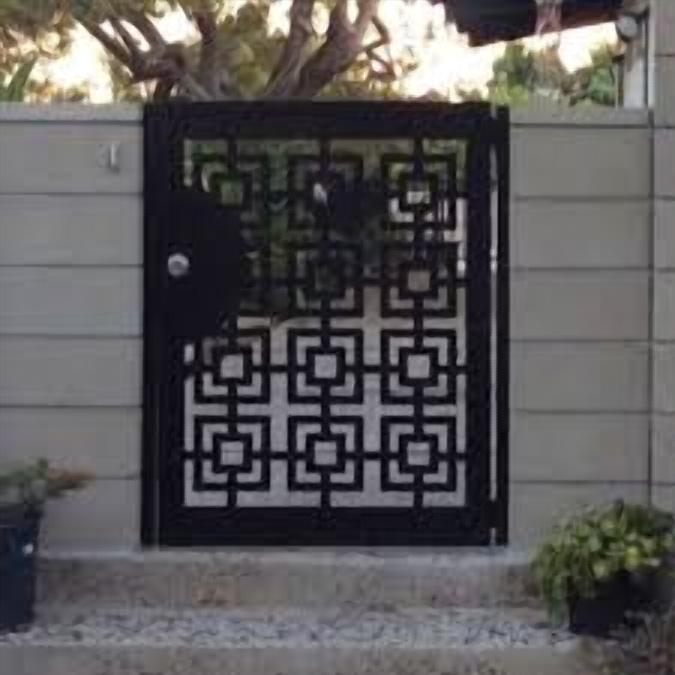Gate: (140, 99, 511, 549)
